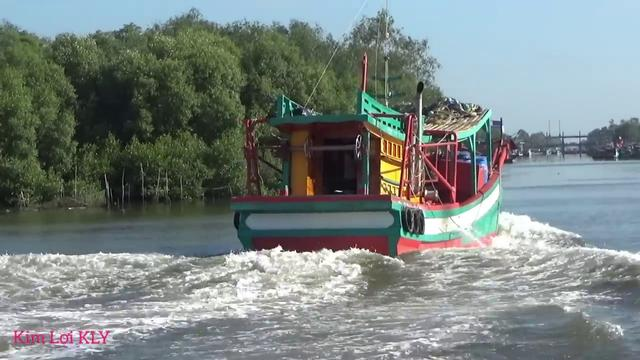Ship: (228, 80, 514, 265)
